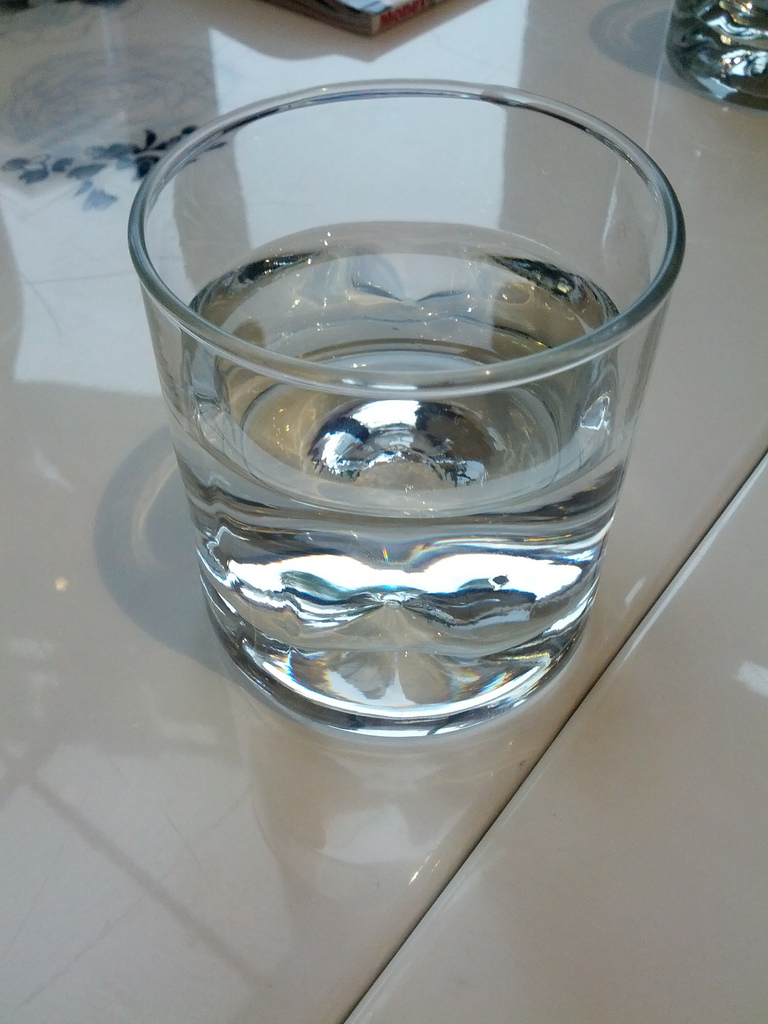glass of water: (125, 79, 688, 744)
